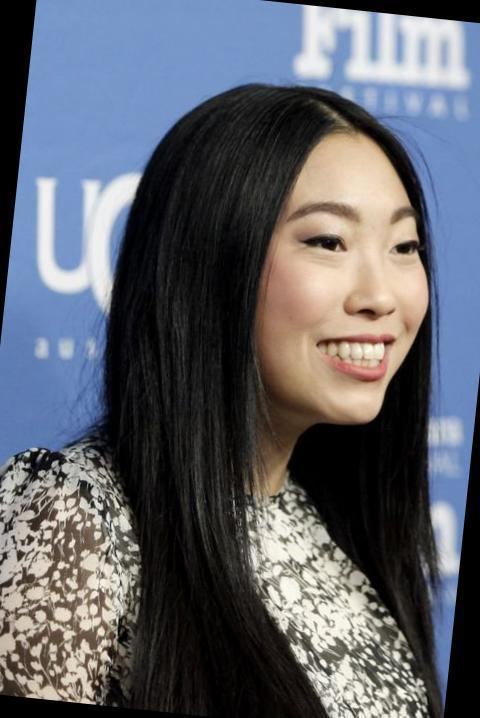Sober: (237, 127, 424, 418)
